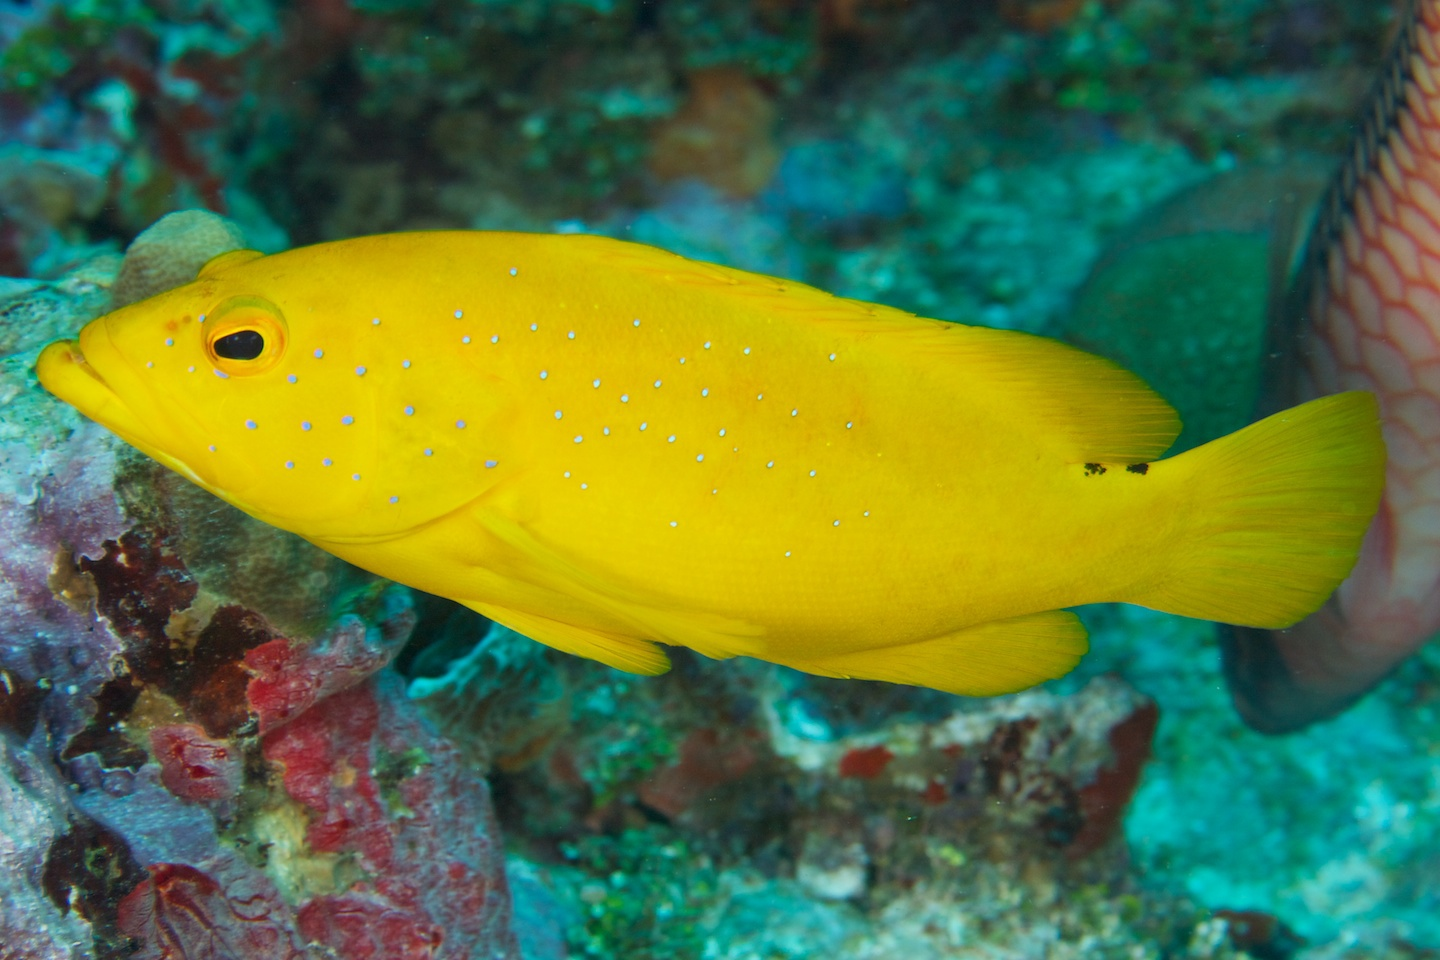Cephalopholis_fulvaw: (17, 174, 1440, 736)
